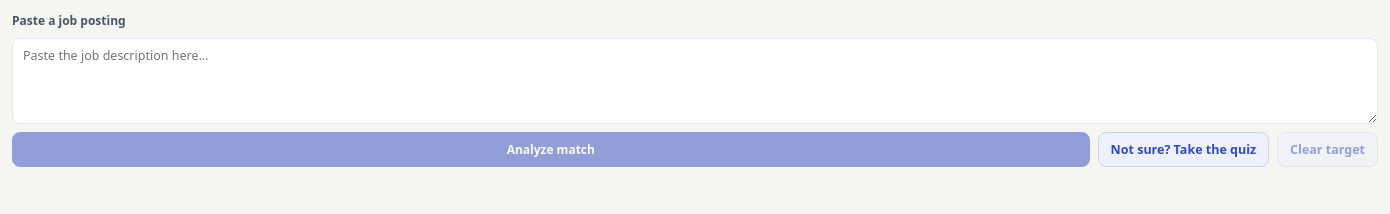
Test case: JobTailor › shows an error and does not analyze on failure
This screenshot has width=1390, height=214.
Type "Retail associate: POS, inventory, customer service" into the text box labelled "Paste a job posting" at (695, 81), box [12,38,1378,124]
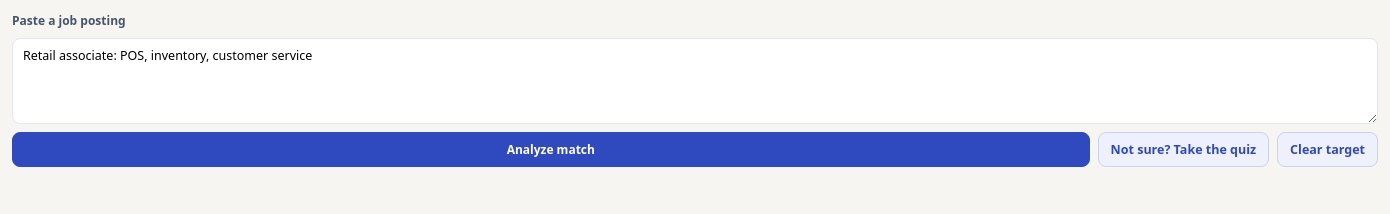
Click the button "Analyze match" at (551, 150), box [12,132,1090,167]
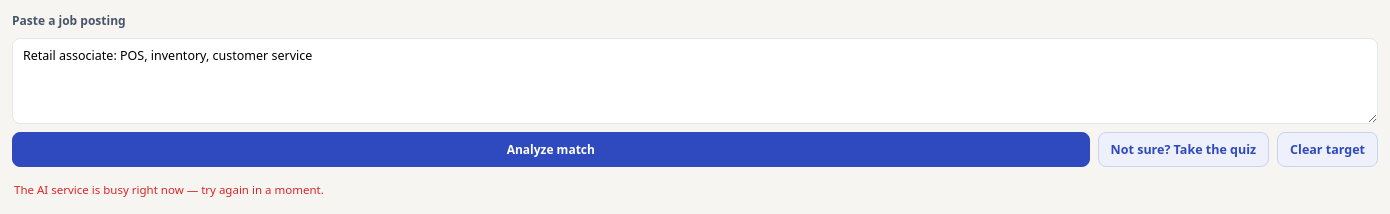
Check: the text "The AI service is busy right now — try again in a moment." is shown, box [14,182,324,197]
